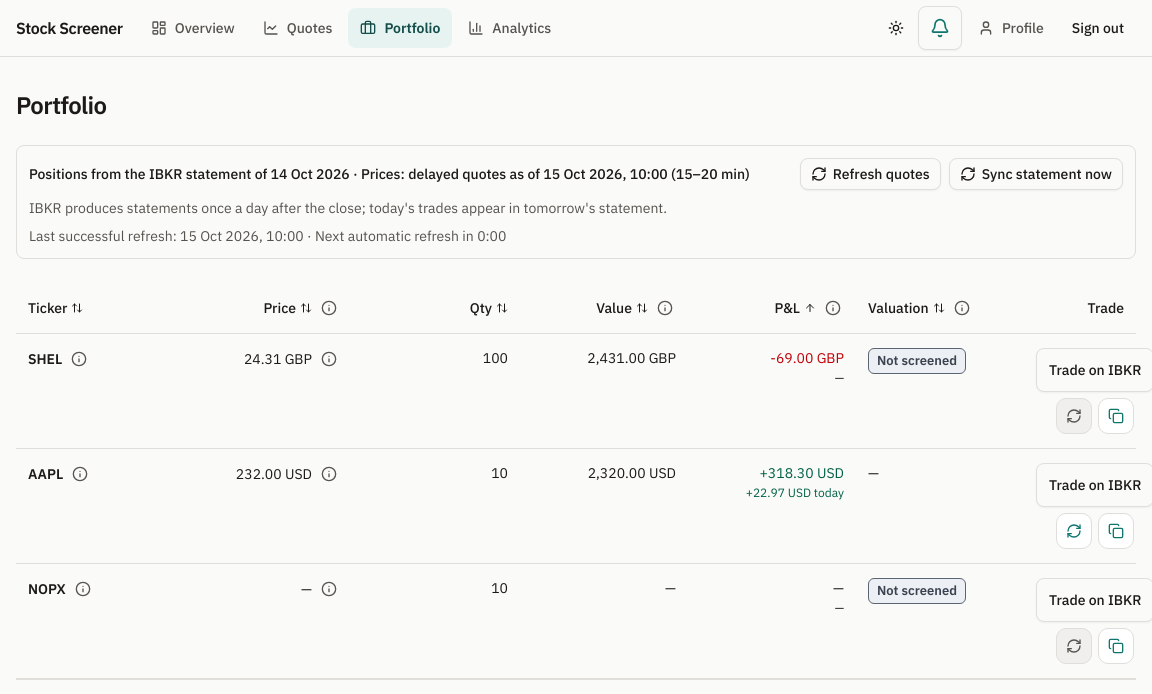
Test: PortfolioPage › mounts the monitored-holding research block only for the monitored position
Click the button named "About AAPL" at point(80, 474), box [69,463,91,485]
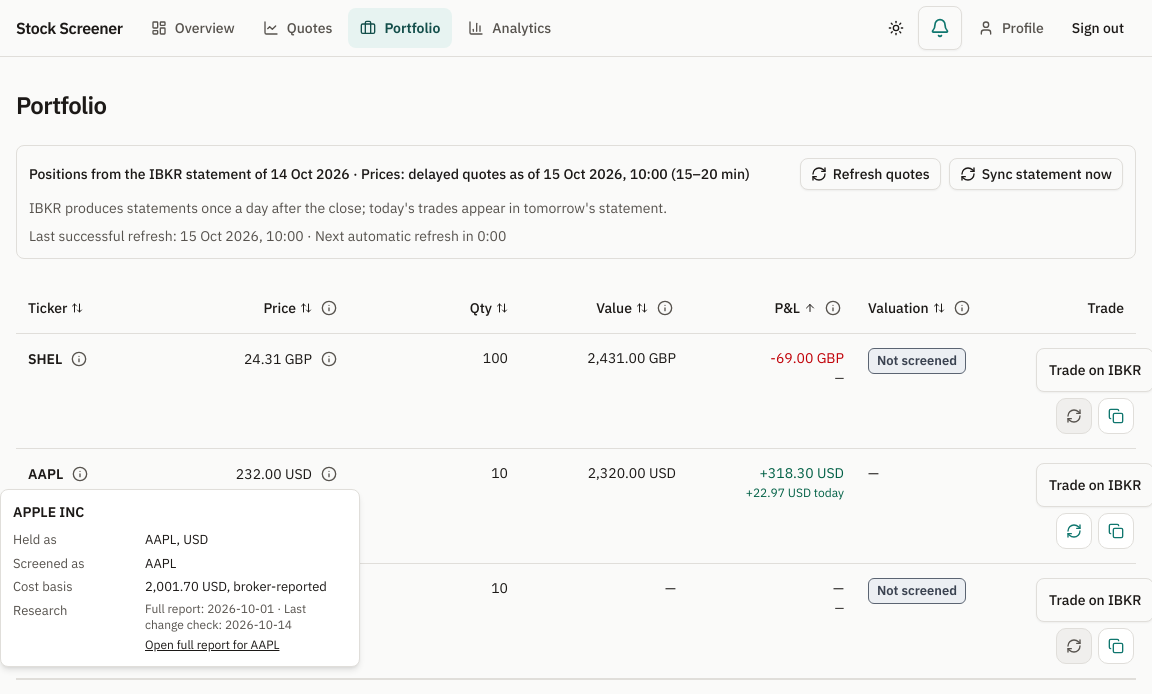
Now the text "Full report: 2026-10-01 · Last change check: 2026-10-14" is shown, box [145,600,306,632]
